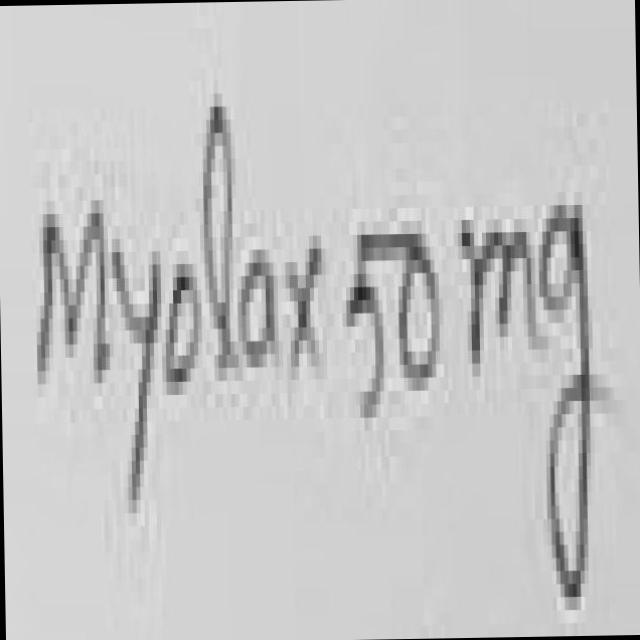0: (401, 221, 439, 390)
5: (344, 228, 398, 424)
M: (37, 213, 109, 384)
a: (242, 262, 274, 367)
g: (542, 204, 594, 609)
l: (203, 106, 235, 361)
m: (462, 219, 540, 370)
o: (166, 264, 201, 394)
x: (289, 248, 321, 366)
y: (112, 252, 161, 506)
